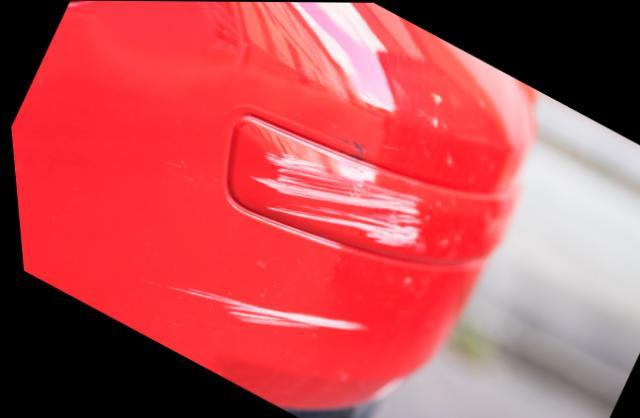scratch: (242, 146, 419, 251), (163, 285, 362, 333)
